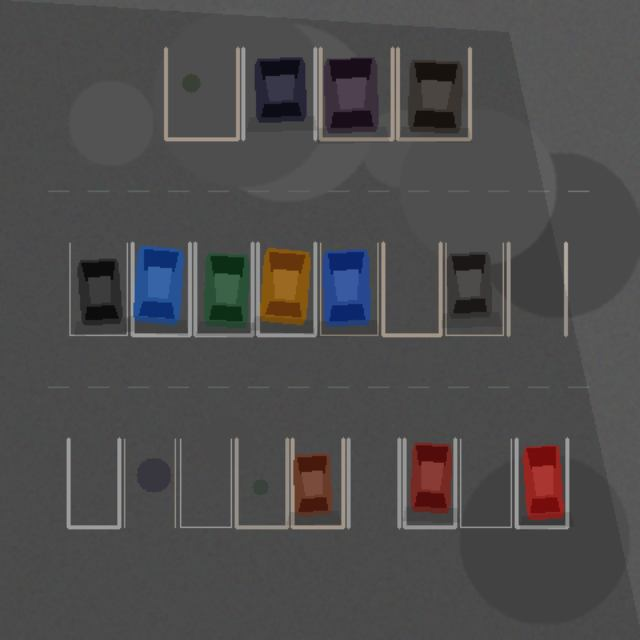space-empty: (165, 48, 237, 139), (383, 243, 440, 335), (508, 243, 565, 335), (68, 439, 119, 527), (124, 439, 175, 527), (180, 439, 231, 527), (236, 439, 287, 527), (348, 439, 399, 527), (460, 439, 511, 527)
space-occupied: (243, 48, 315, 139), (320, 48, 392, 139), (397, 48, 469, 139), (69, 243, 127, 335), (257, 243, 315, 335), (445, 243, 503, 335), (132, 243, 189, 335), (195, 243, 252, 335), (320, 243, 377, 335), (292, 439, 343, 527), (404, 439, 455, 527), (516, 439, 567, 527)
